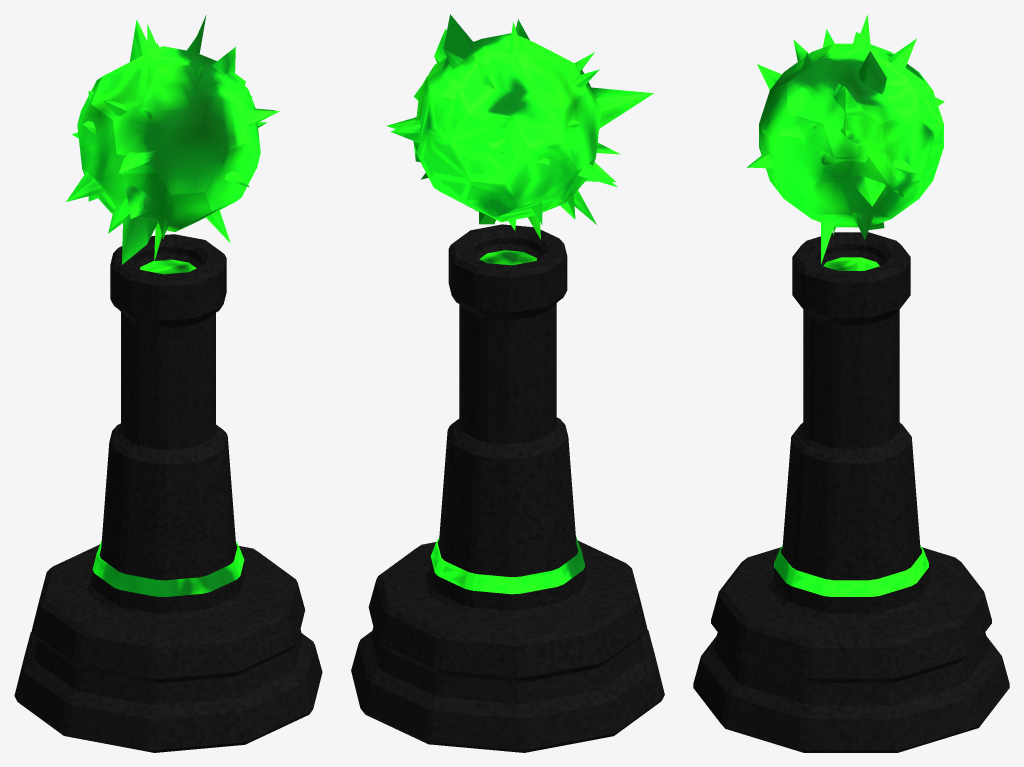
Rendered from torreInferno.fbx.
3 renders of one model, left to right at view 1: azimuth 30°, elevation 25°; view 2: azimuth 150°, elevation 25°; view 3: azimuth 270°, elevation 25°, orthographic.
Parts seen in each view (by area): view 1: Torre; view 2: Torre; view 3: Torre.
Boxes of the visible parts, x1,y1,x2,y2 form: Torre: (14, 15, 322, 752); Torre: (351, 14, 664, 752); Torre: (693, 14, 1009, 752).
Size of the model in its own units: 1051 by 2557 by 1095.
1 material, 1 textured.
